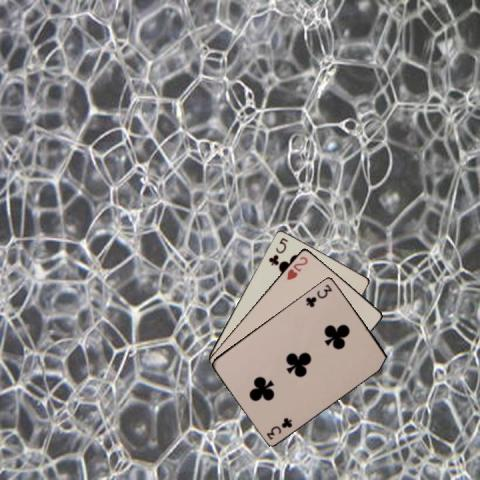2h: (284, 253, 309, 282)
3c: (303, 280, 333, 308), (263, 414, 294, 440)
5c: (266, 234, 290, 266)
